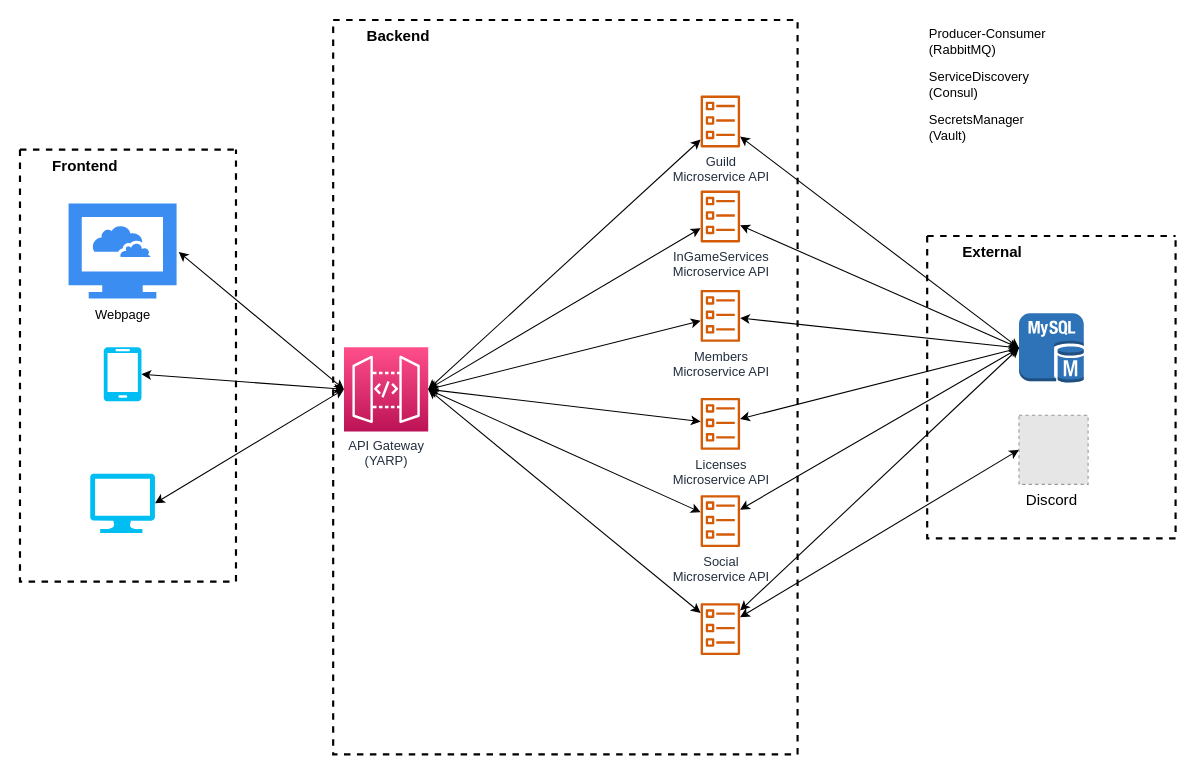
The diagram is 1194 pixels wide and 773 high, and some of its shapes have lost their labels. Grey dashed boxes stand in for pictures. Here are the shapes that lost their labels. From the top down, the centre of each, then its label:
At [122,374]: "Phone APP".
At [122,502]: "Dektop APP".
At [720,628]: "Mandril Microservice API".
